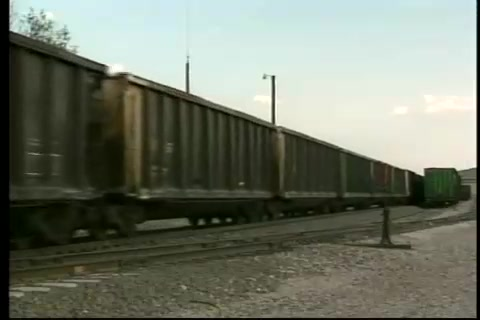train: (11, 28, 426, 240)
